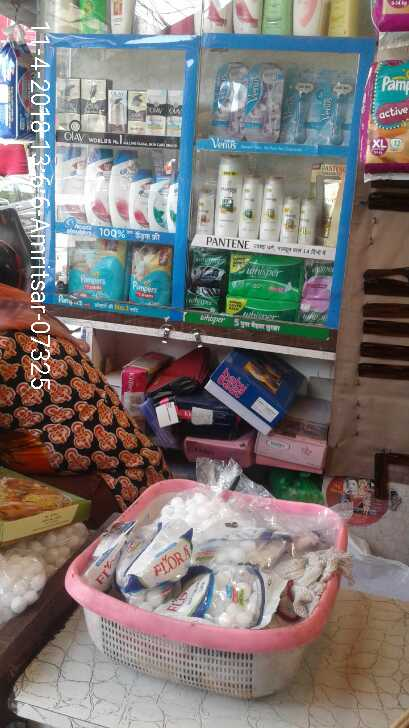venus: (209, 62, 246, 138), (248, 64, 282, 141), (285, 65, 317, 144), (321, 70, 348, 145)
